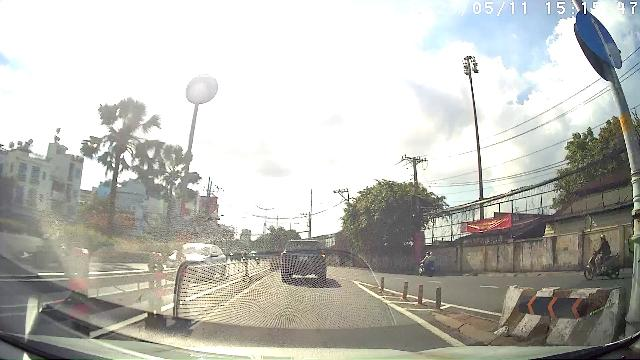301a-cac-xe-chi-duoc-di-thang: (576, 12, 624, 68)
